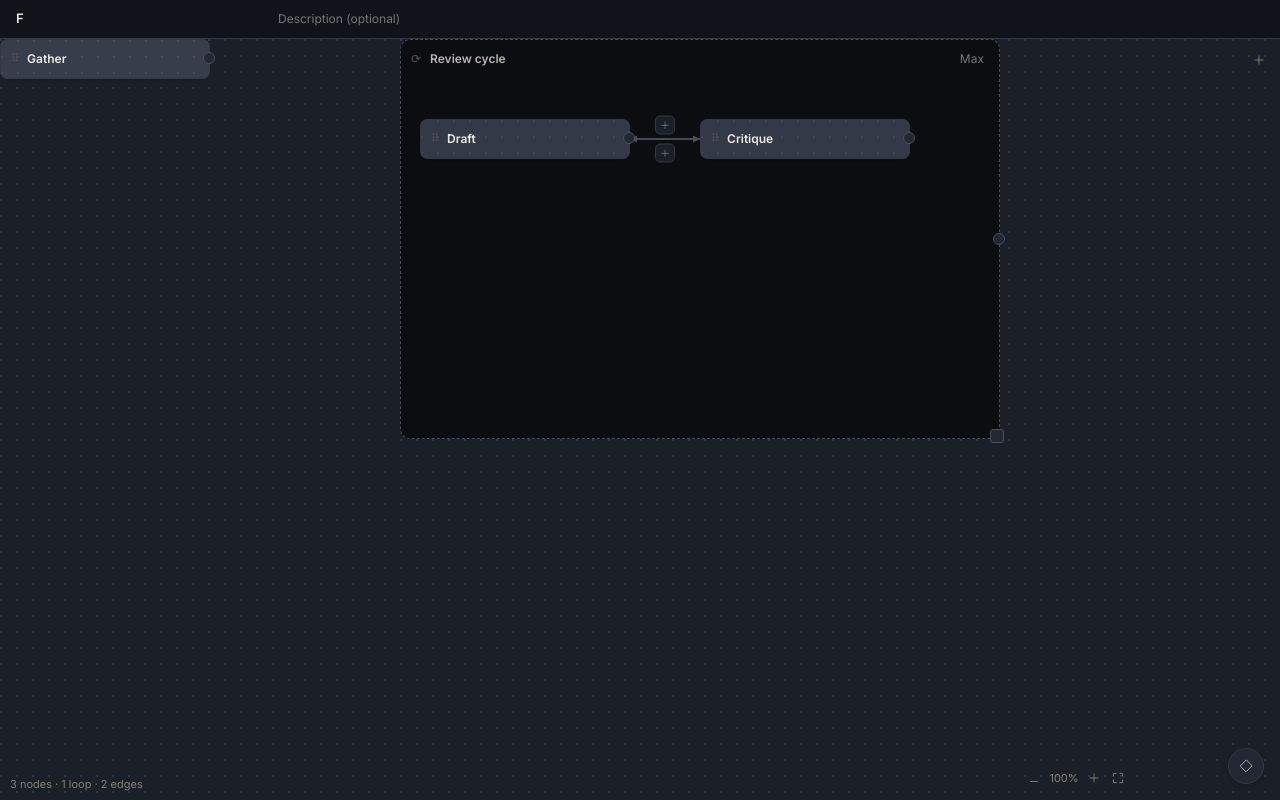
Test: dragging between containers (FLO-FR-42, FLO-FR-40 / FLO-FR-43 / FLO-FR-44, FLO-FR-21) › asks before a move severs connections, and cancelling changes nothing
This screenshot has width=1280, height=800.
Press the mouse on the 2nd element showing "⠿": (525, 138) top-left (420, 118), bottom-right (630, 158)
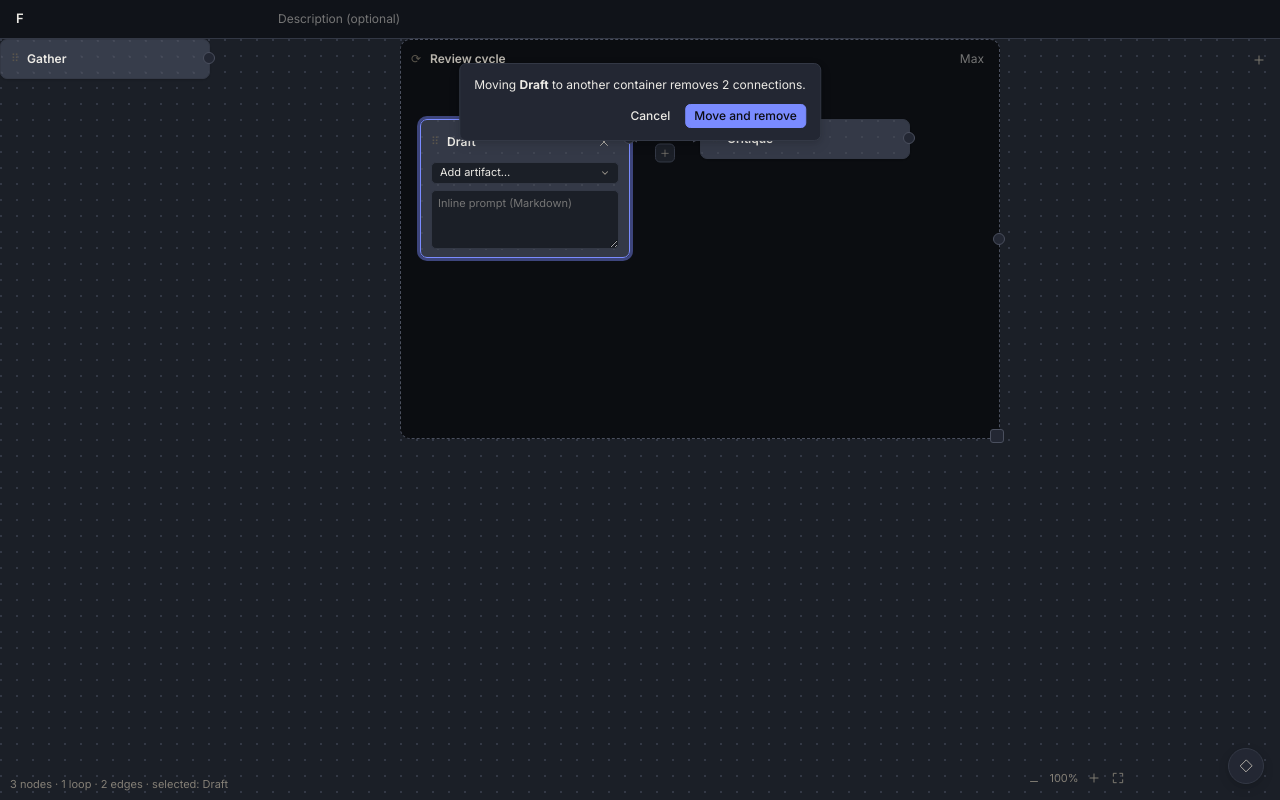
Now the dialog with test id "flow-move-confirm" shows "removes 2 connections", box top-left (459, 62), bottom-right (821, 140)
Click the button "Cancel": (650, 116) top-left (622, 104), bottom-right (679, 128)
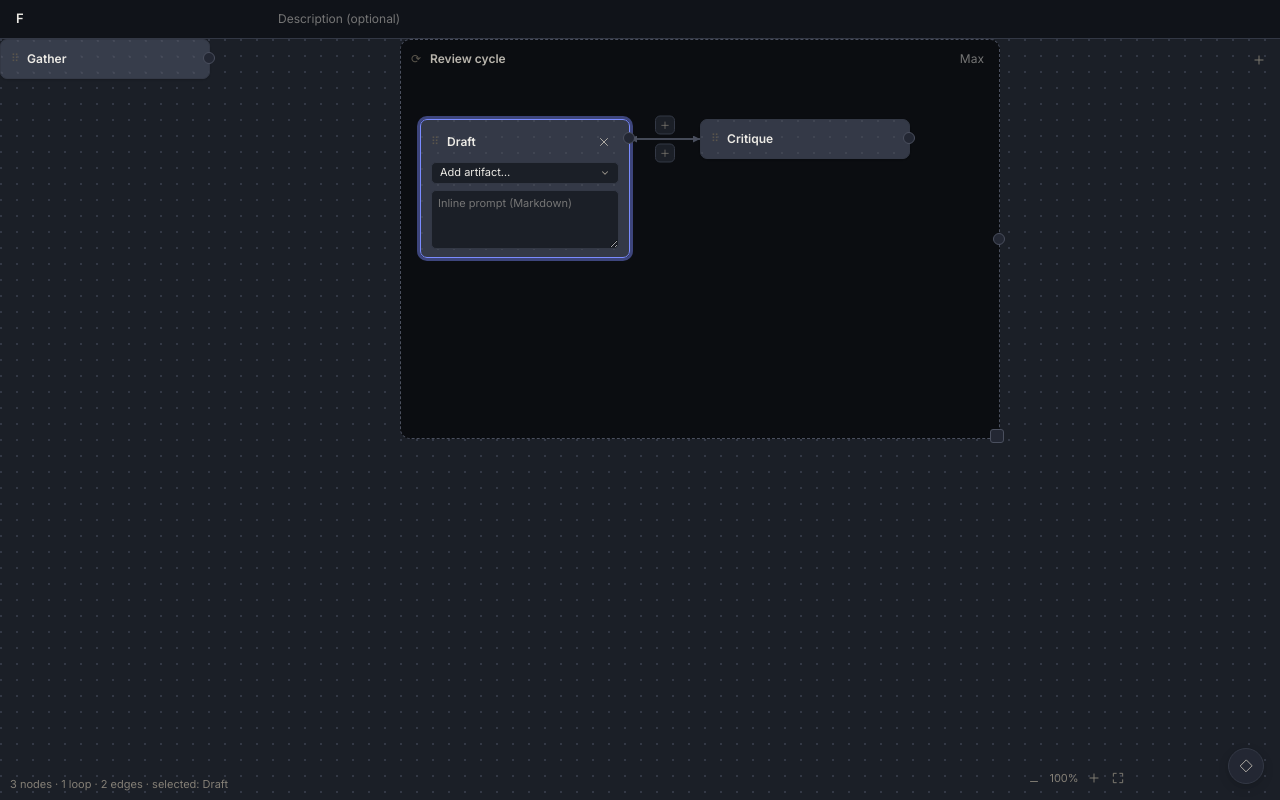
Now the dialog with test id "flow-move-confirm" is gone
